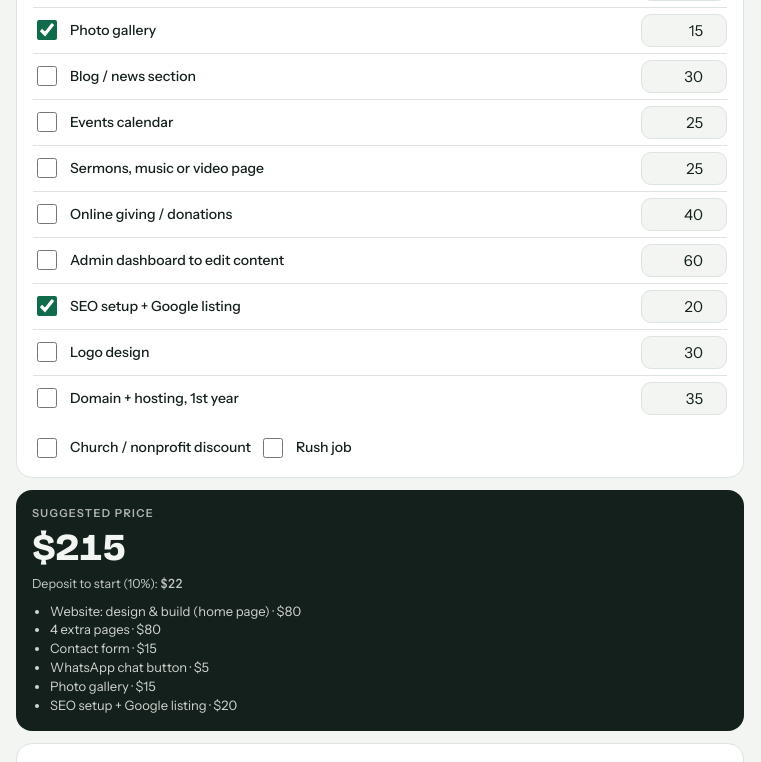
pricing page › shows the suggested price, rush and discount, and the deposit
(page scrolled)
Check: the text with test id "quote-total" reads "$215", box [32,525,126,570]
Click the checkbox labelled "Rush job" at (273, 448), box [263,438,283,458]
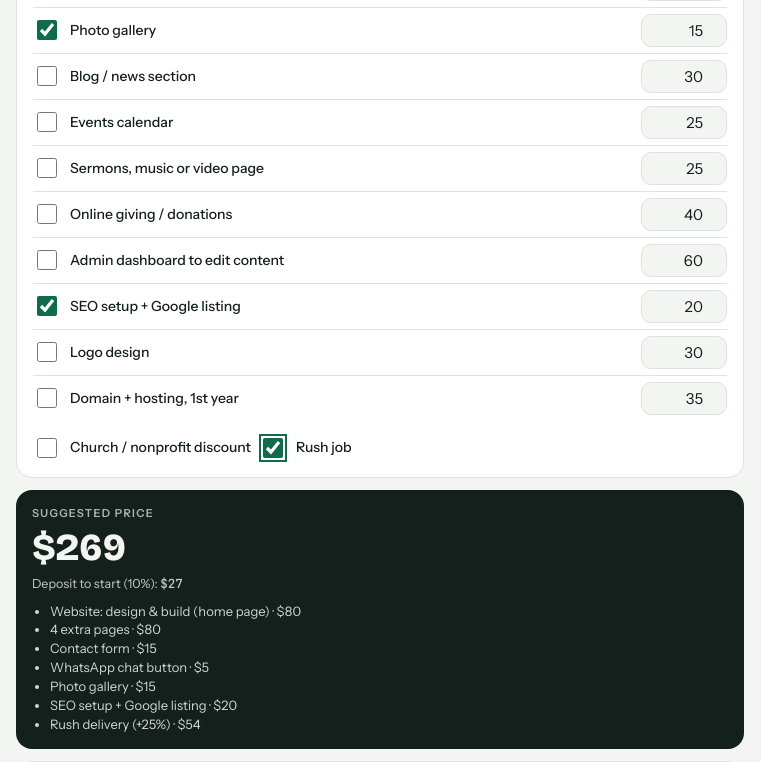
Check: the text with test id "quote-total" reads "$269", box [32,525,126,570]
Click the checkbox labelled "Church / nonprofit discount" at (47, 448), box [37,438,57,458]
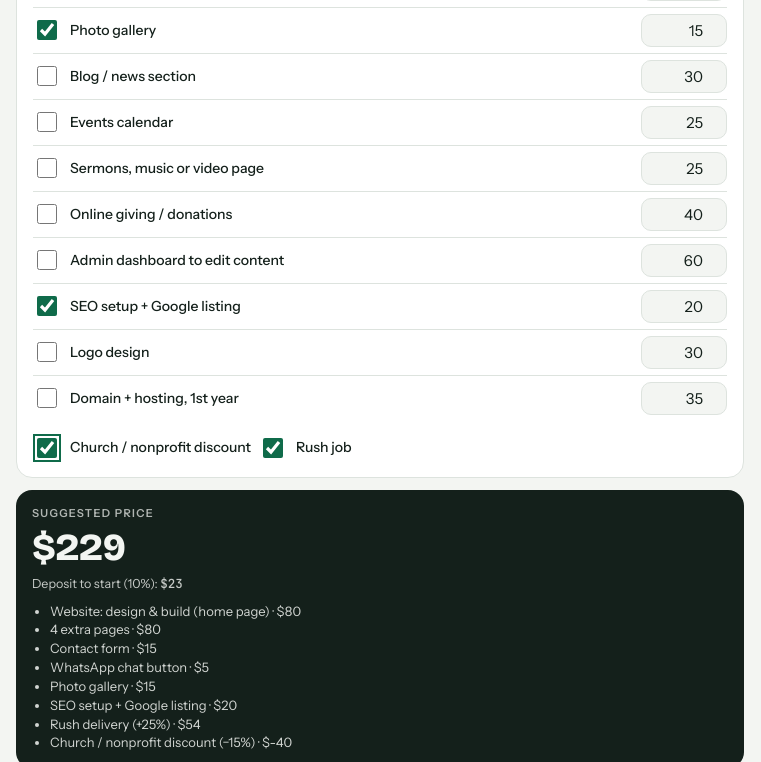
Check: the text with test id "quote-total" reads "$229", box [32,525,126,570]
Check: the text with test id "quote-deposit" reads "$23", box [160,575,183,592]
